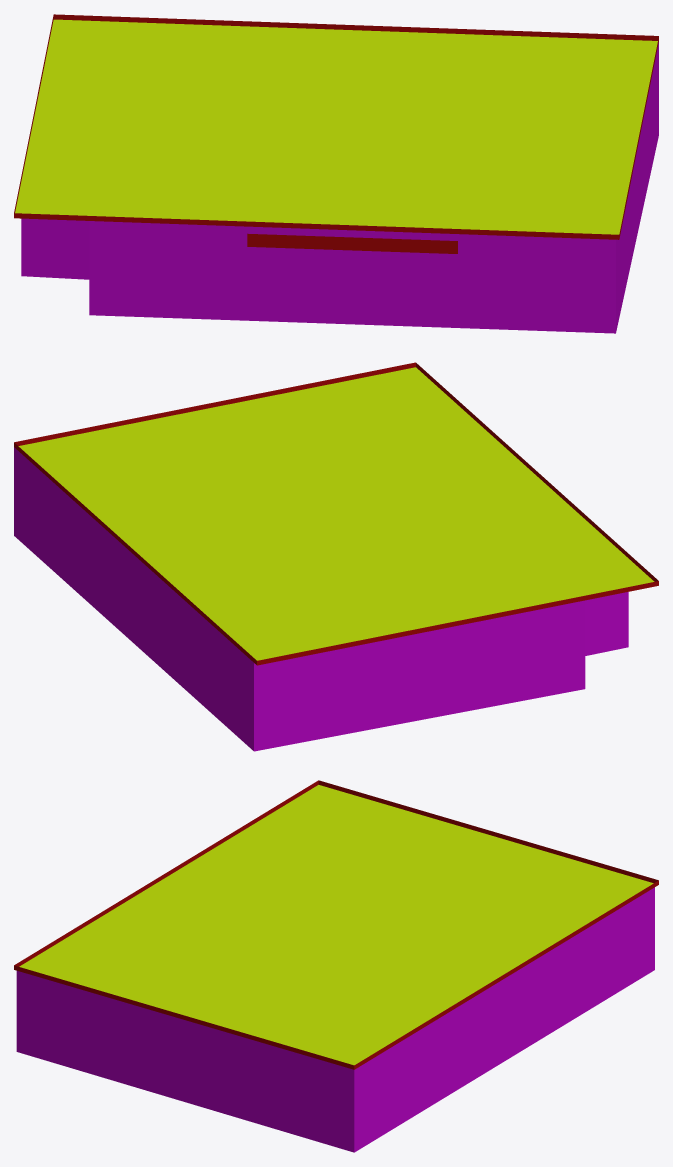
File: bgj_180.glb
The picture shows the model from 3 angles, top to bottom: view 1: azimuth 30°, elevation 25°; view 2: azimuth 150°, elevation 25°; view 3: azimuth 270°, elevation 25°; orthographic projection. The views are drawn at different scales.
Parts seen in each view (by area): view 1: bgj_180; view 2: bgj_180; view 3: bgj_180.
Part boxes in pixels (bbox=[...]): bgj_180: bbox=[14, 14, 658, 333]; bgj_180: bbox=[14, 362, 658, 751]; bgj_180: bbox=[14, 780, 658, 1152].
Size of the model in its own units: 48.02 by 6.85 by 45.9.
